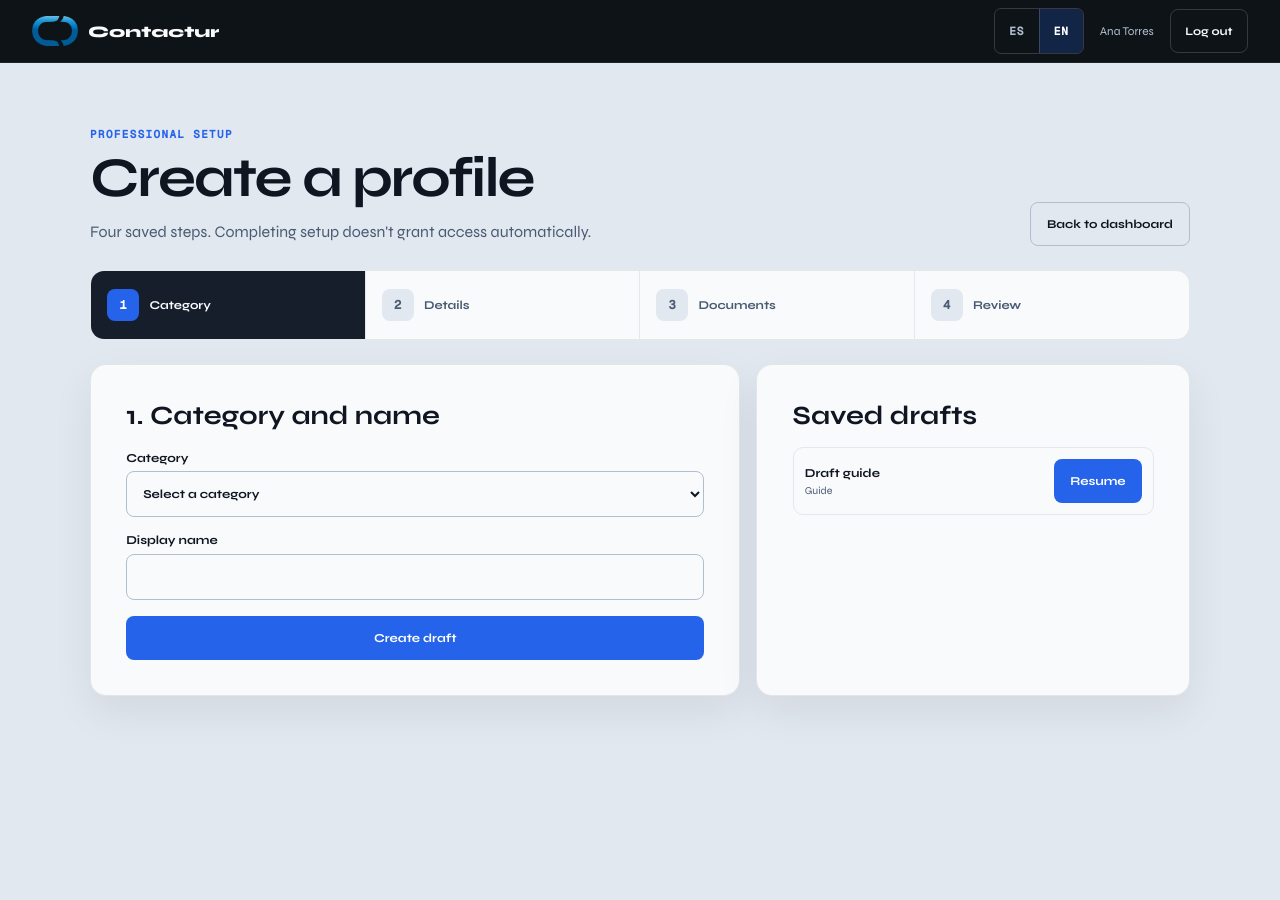
i18n app-profile — alta y perfil › el alta se muestra en inglés: pasos, formulario, borradores y validación local
Expected: the heading "Create a profile" is shown, [90,150,591,206]
Expected: the text "Professional setup" is shown, [90,127,233,141]
Click the button "Create draft": point(415, 638) [126,616,704,660]
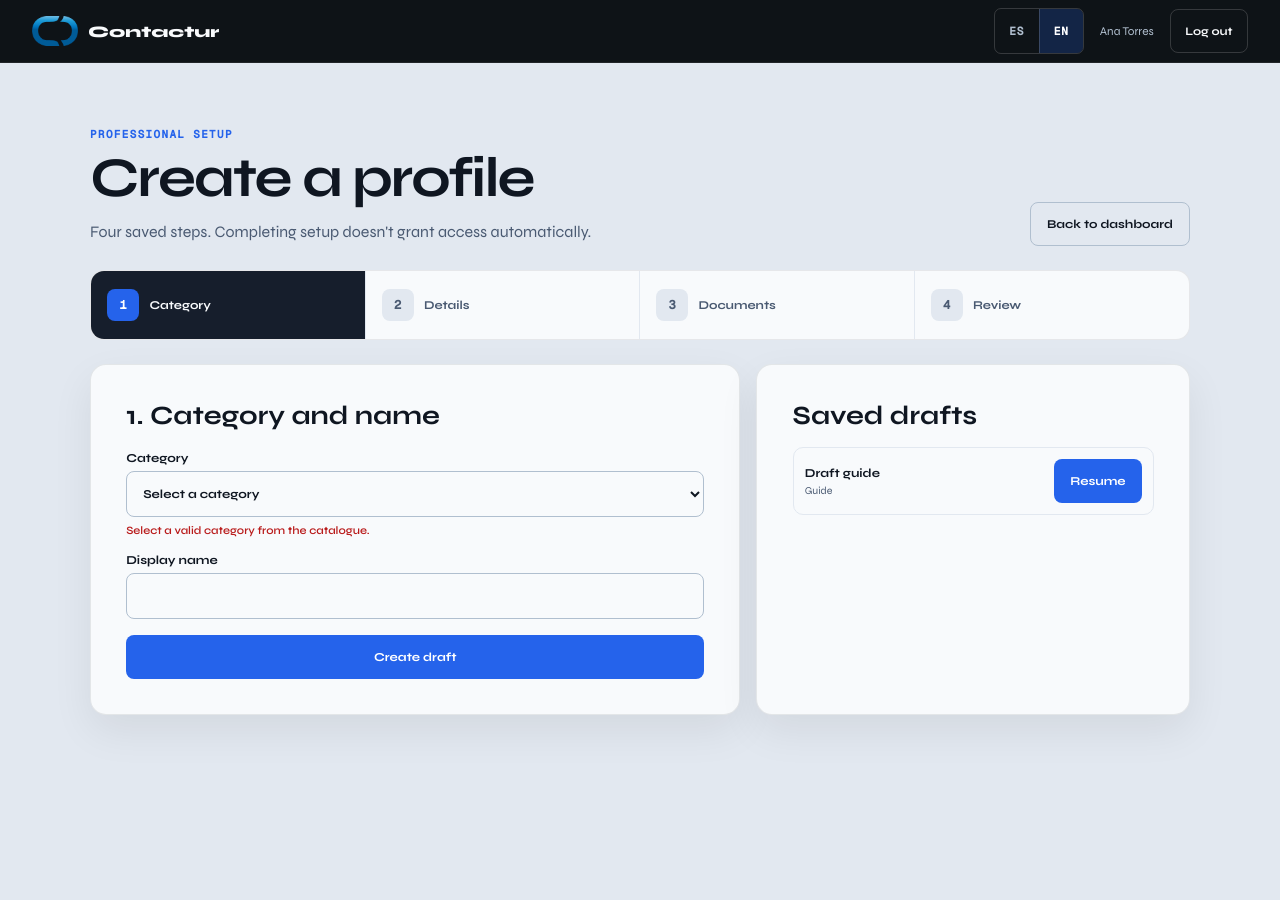
Expected: the text "Select a valid category from the catalogue." is shown, [126,524,370,537]
